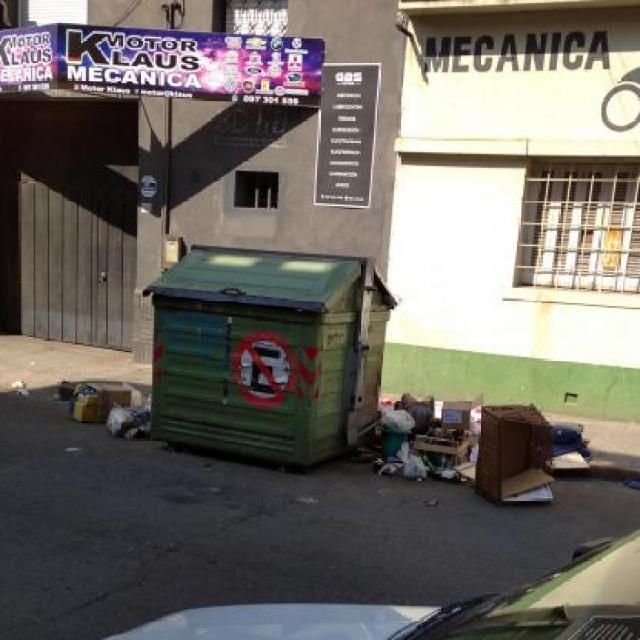garbage: (379, 394, 573, 508), (8, 371, 142, 446)
